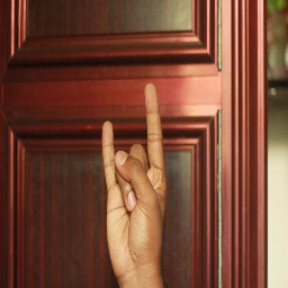V: (96, 77, 174, 260)
